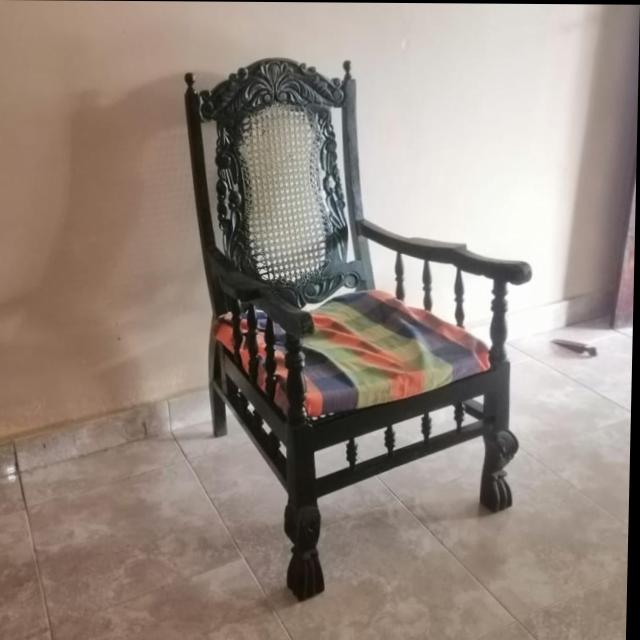Chair: (173, 57, 532, 606)
